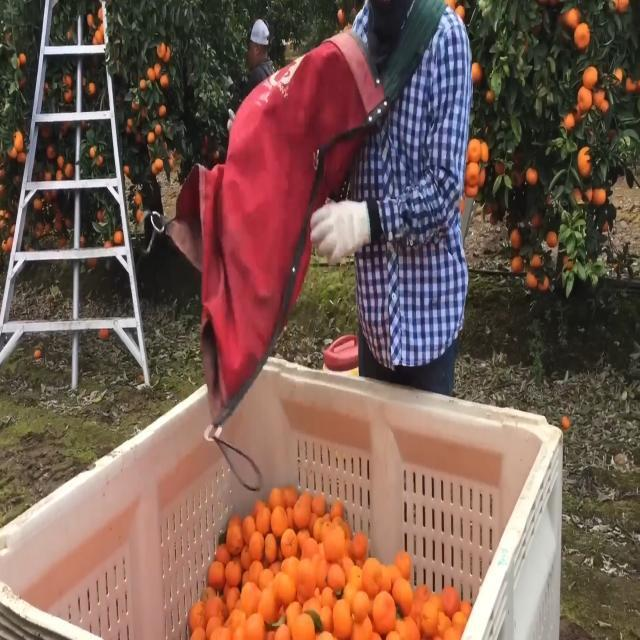Jeruk Sudah Matang: (577, 146, 595, 182), (573, 21, 591, 48), (576, 86, 594, 112), (466, 138, 484, 164), (582, 66, 599, 90), (592, 187, 608, 210), (509, 254, 526, 274), (471, 60, 484, 86), (544, 229, 560, 249), (524, 270, 539, 290), (526, 165, 539, 188), (510, 228, 522, 250), (538, 274, 550, 295), (529, 254, 542, 269)
